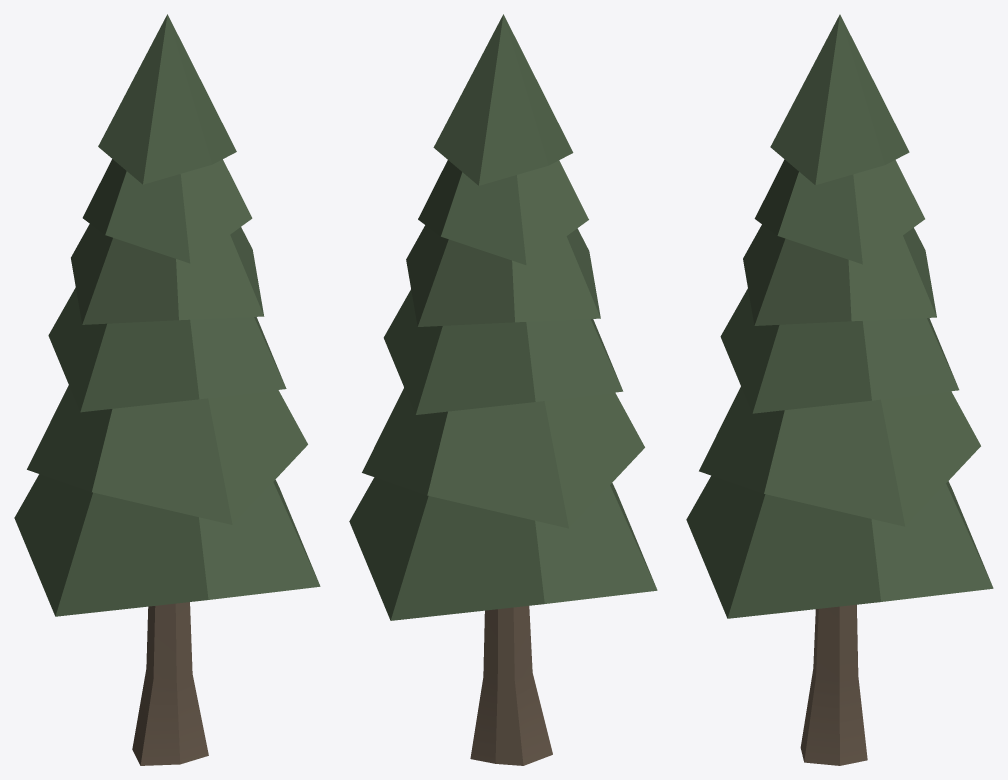
The model's file is PineTreeLarge_Mesh.fbx.
The picture shows the model from 3 angles, left to right: view 1: azimuth 30°, elevation 25°; view 2: azimuth 150°, elevation 25°; view 3: azimuth 270°, elevation 25°; orthographic projection.
Parts seen in each view (by area): view 1: PineTreeLarge_Mesh; view 2: PineTreeLarge_Mesh; view 3: PineTreeLarge_Mesh.
Part boxes in pixels (box(x1,y1,x2,y2)): PineTreeLarge_Mesh: box(14, 14, 320, 765); PineTreeLarge_Mesh: box(349, 14, 657, 765); PineTreeLarge_Mesh: box(686, 14, 993, 765).
Bounding box in the file's own units: 435 × 1150 × 435.
